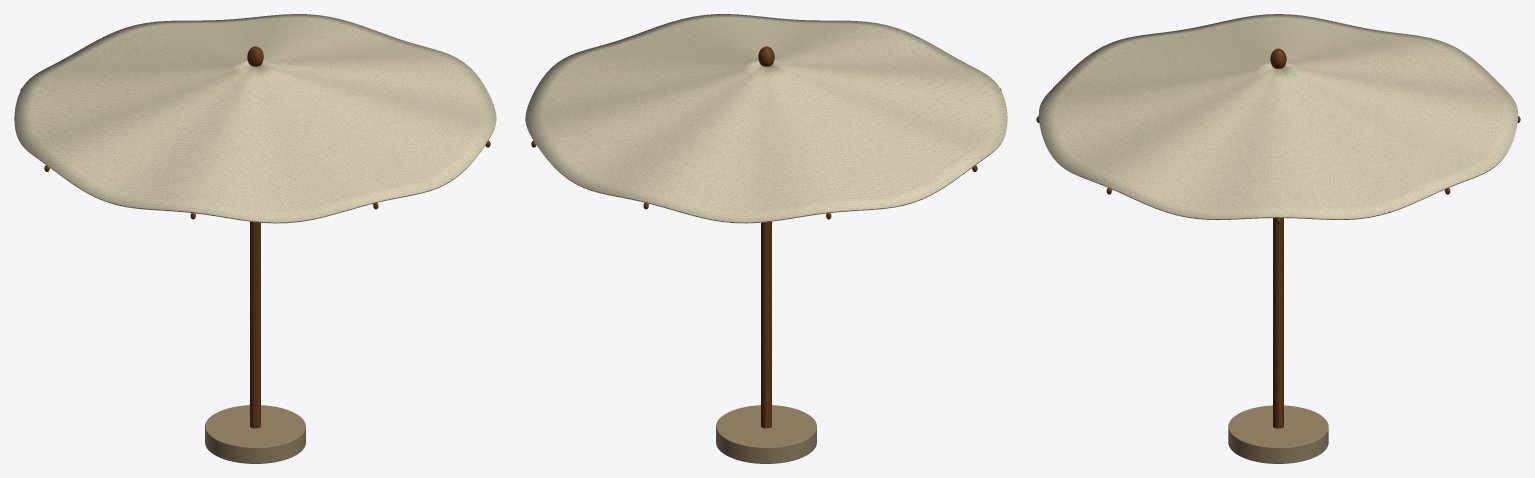
Rendered from garden-parasol.glb.
3 views of the same model, side by side, from view 1: azimuth 30°, elevation 25°; view 2: azimuth 150°, elevation 25°; view 3: azimuth 270°, elevation 25° (orthographic).
Visible parts, largest first — view 1: tailored-eight-panel-canopy, weighted-base, teak-mast; view 2: tailored-eight-panel-canopy, weighted-base, teak-mast; view 3: tailored-eight-panel-canopy, weighted-base, teak-mast.
Boxes of the visible parts, <box> form: tailored-eight-panel-canopy: <box>14,14,496,223</box>; weighted-base: <box>205,405,305,463</box>; teak-mast: <box>250,221,260,428</box>; tailored-eight-panel-canopy: <box>525,14,1007,223</box>; weighted-base: <box>716,405,816,463</box>; teak-mast: <box>761,221,771,428</box>; tailored-eight-panel-canopy: <box>1038,14,1518,219</box>; weighted-base: <box>1228,405,1328,463</box>; teak-mast: <box>1273,218,1283,428</box>.
Bounding box in the file's own units: 3.28 × 2.94 × 3.28.
Materials: 4 (3 with a texture image).
